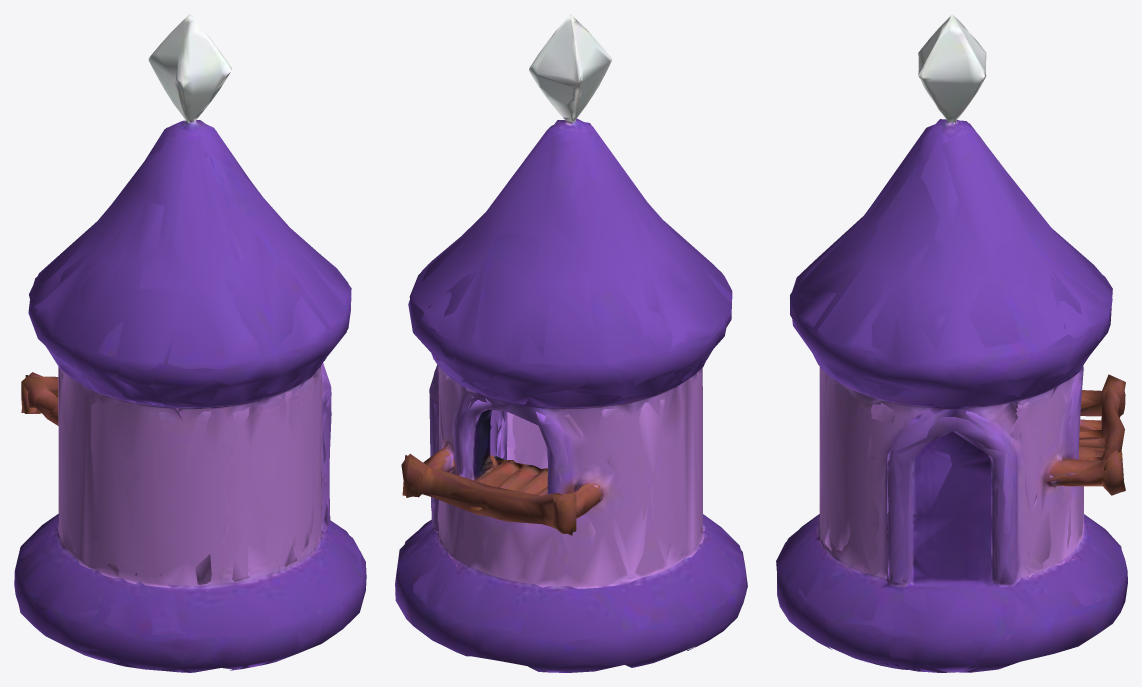
Rendered from mage.glb.
3 views of the same model, side by side, from view 1: azimuth 30°, elevation 25°; view 2: azimuth 150°, elevation 25°; view 3: azimuth 270°, elevation 25° (orthographic).
Size of the model in its own units: 0.5374 by 1 by 0.535.
1 material, 1 textured.
